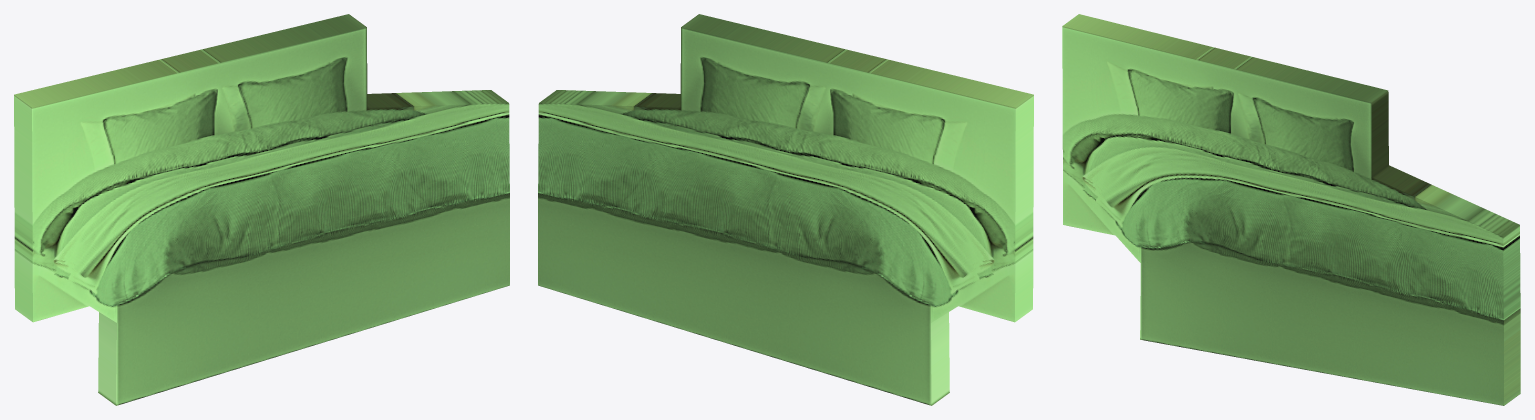
Rendered from Bed.glb.
3 views of the same model, side by side, from view 1: azimuth 30°, elevation 25°; view 2: azimuth 150°, elevation 25°; view 3: azimuth 330°, elevation 25° (orthographic). The views are drawn at different scales.
Visible parts, largest first — view 1: Cube.001; view 2: Cube.001; view 3: Cube.001.
Boxes of the visible parts, <box> form: Cube.001: <box>14,14,509,405</box>; Cube.001: <box>538,14,1033,405</box>; Cube.001: <box>1062,14,1520,405</box>.
Bounding box in the file's own units: 4.72 × 3.01 × 0.3083.
1 material, 1 textured.
